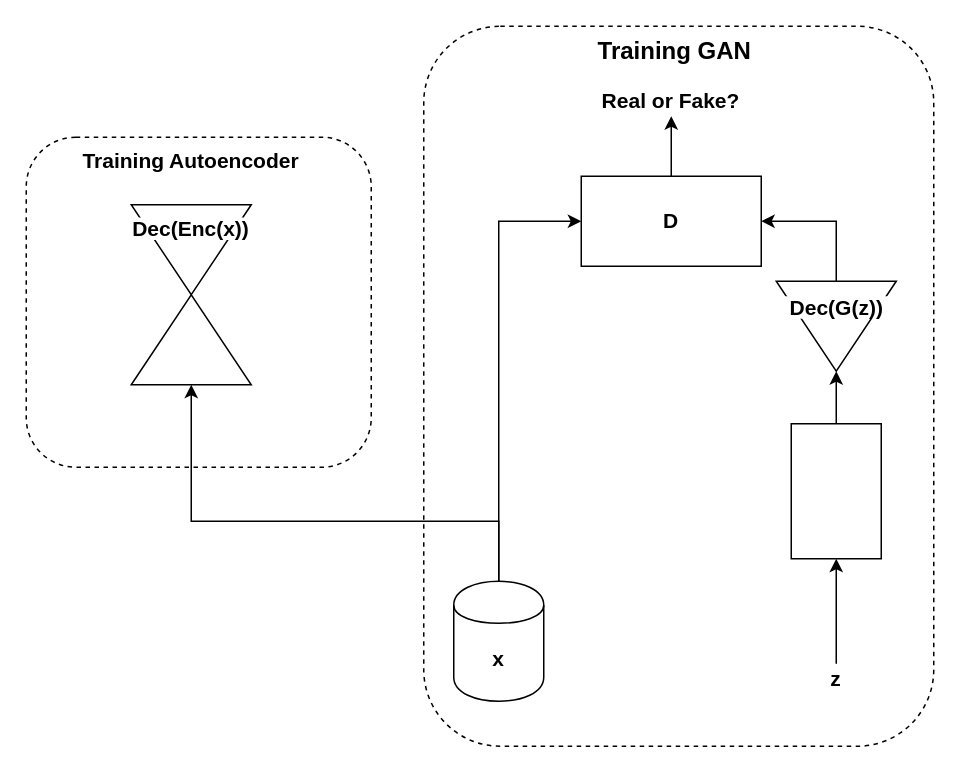
Image size: 960x773. Some labels were removed from this diagram. Here are the shapes that lost their labels. From the top down, the centre of each, then its label:
At point 190,339: "Enc(x)".
At point 835,490: "G(z)".
